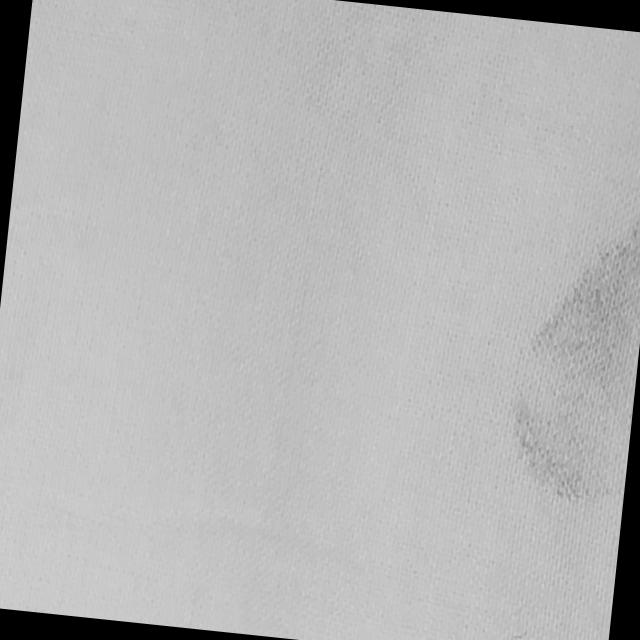Stain: (502, 201, 640, 509)
